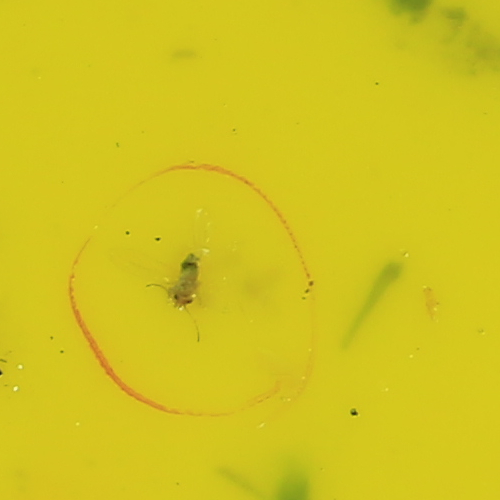psylla: (169, 254, 207, 315)
